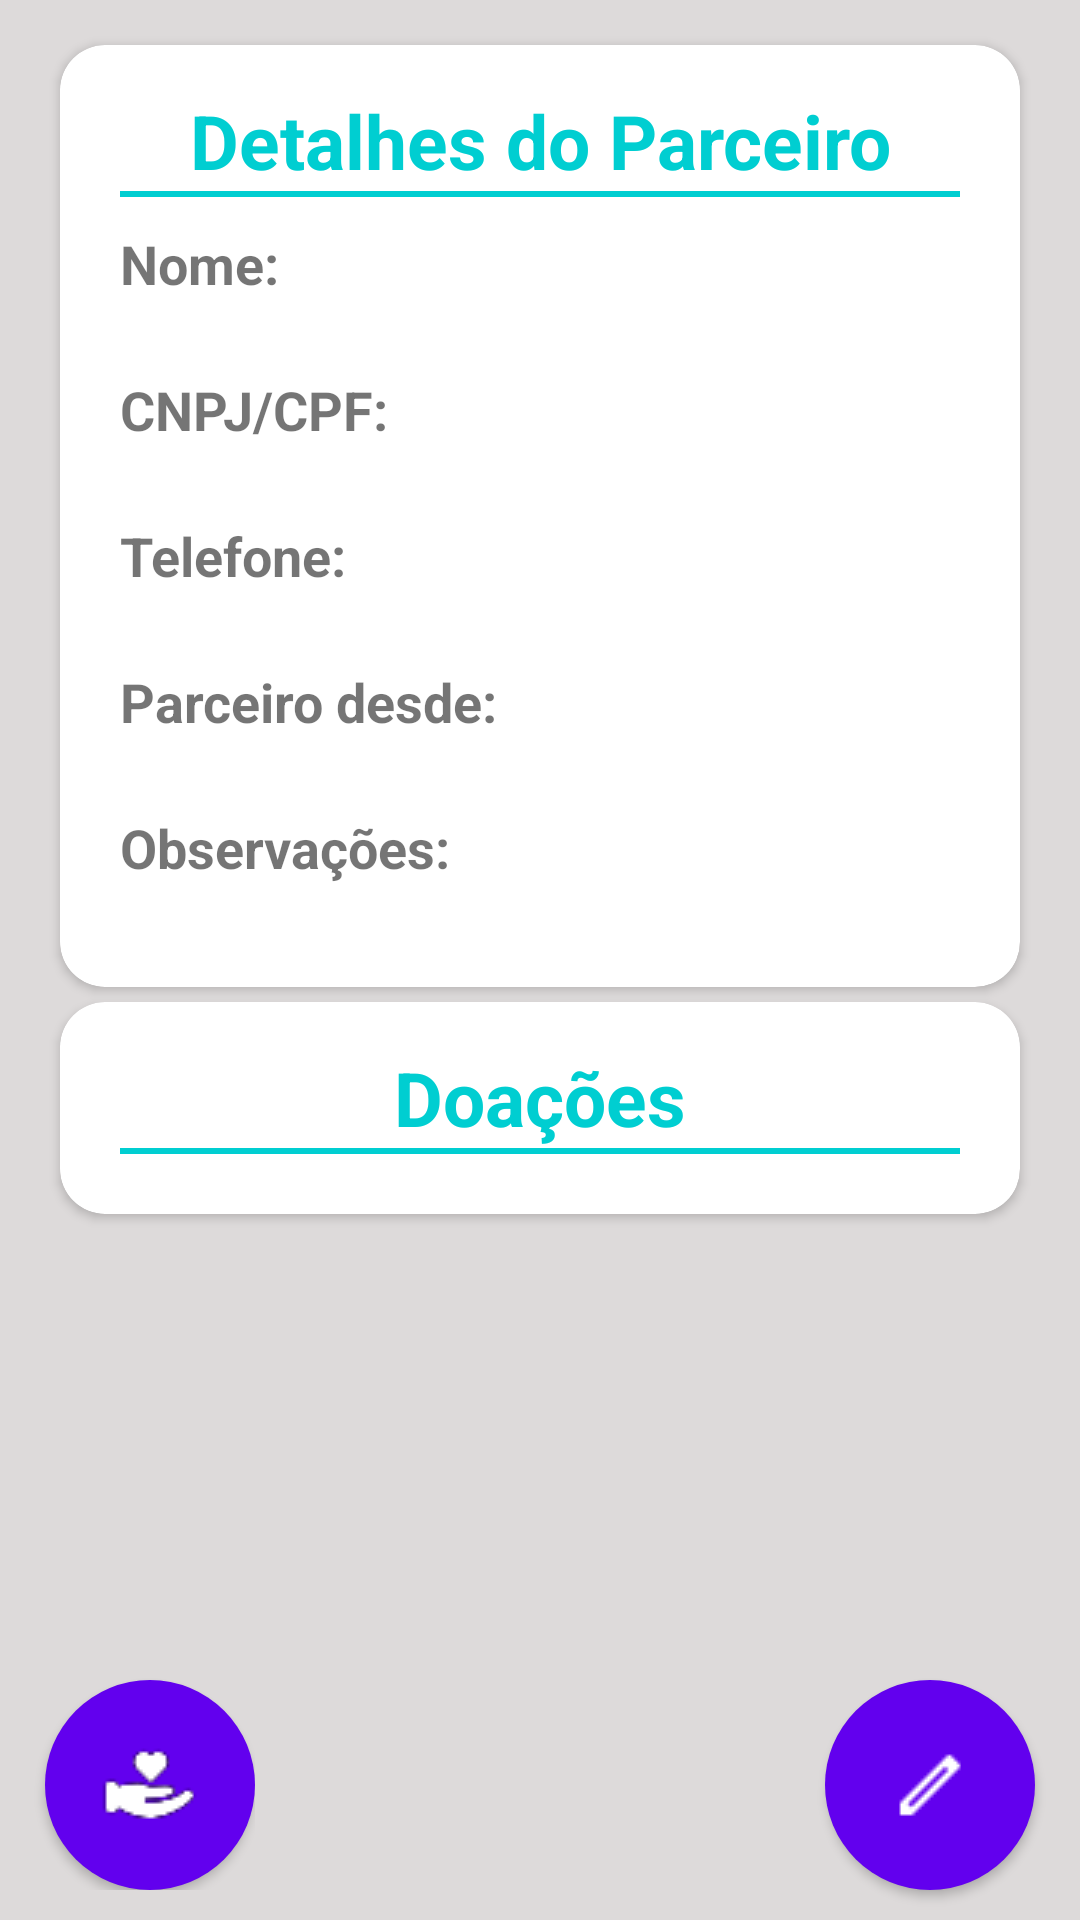

Icons on this 1080 × 1920 Android screen, each with the point to tap as point (x, y):
botao doacao: point (150, 1785)
